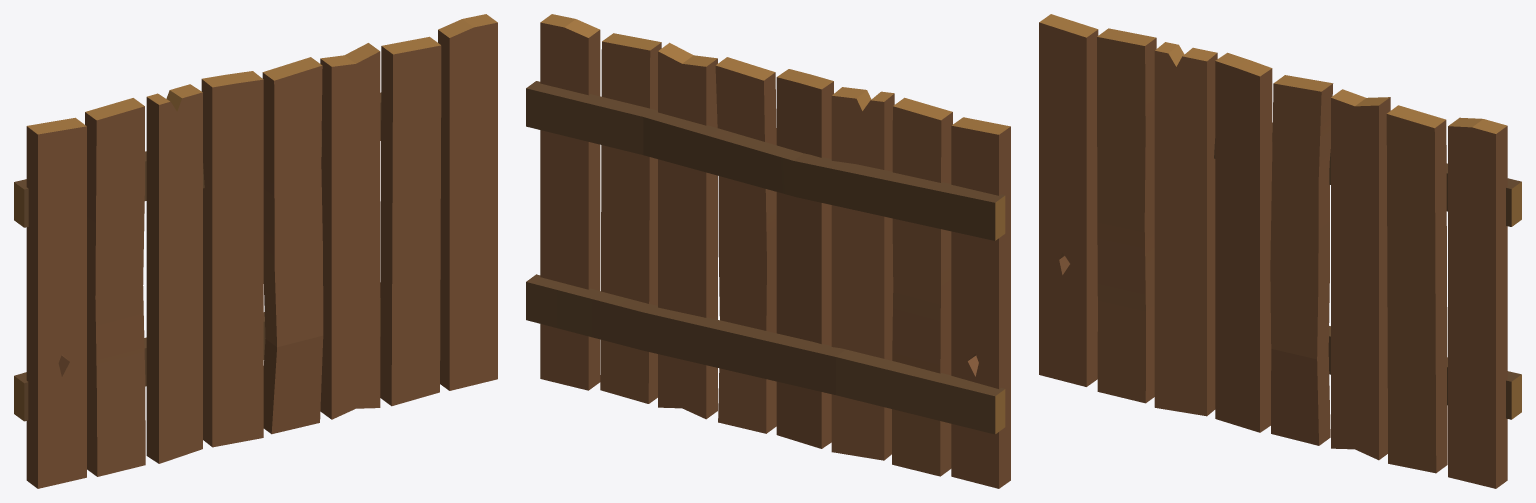
File: props_fence-classic.fbx
3 renders of one model, left to right at view 1: azimuth 30°, elevation 25°; view 2: azimuth 150°, elevation 25°; view 3: azimuth 330°, elevation 25°, orthographic.
Parts seen in each view (by area): view 1: props_fence_classic; view 2: props_fence_classic; view 3: props_fence_classic.
Part boxes in pixels (box(x1,y1,x2,y2)): props_fence_classic: box(14, 14, 497, 488); props_fence_classic: box(526, 14, 1010, 488); props_fence_classic: box(1039, 14, 1521, 488).
Size of the model in its own units: 200 by 147 by 19.22.
